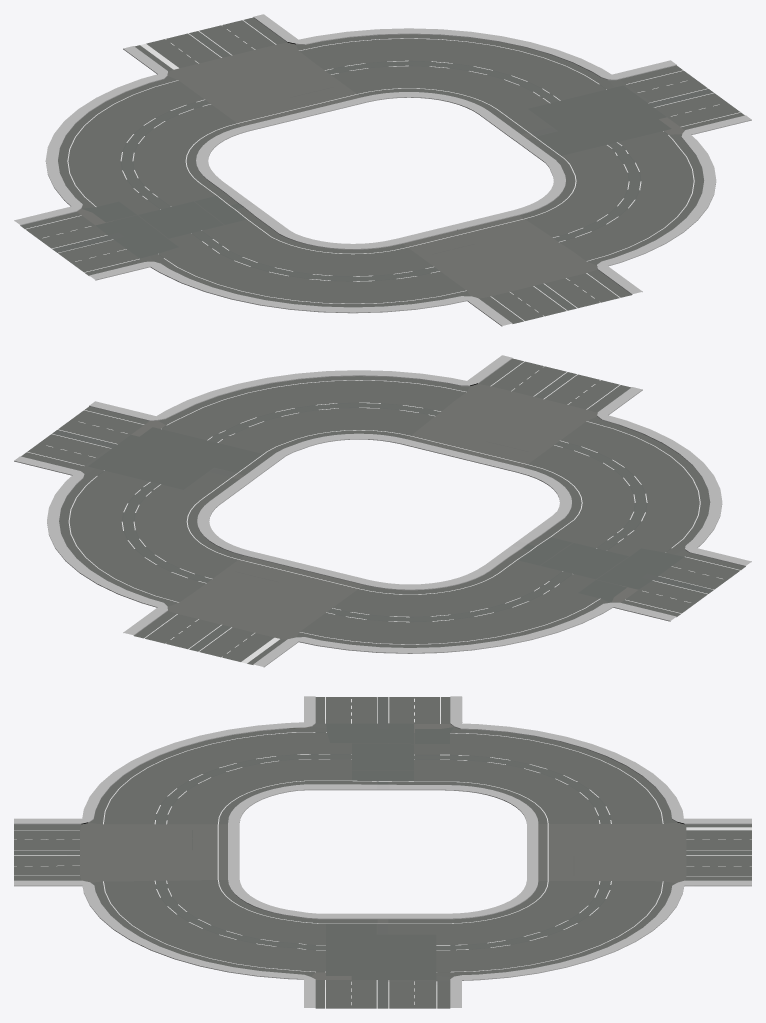
Rendered from Roundabout.fbx.
The picture shows the model from 3 angles, top to bottom: view 1: azimuth 30°, elevation 25°; view 2: azimuth 150°, elevation 25°; view 3: azimuth 270°, elevation 25°; orthographic projection. The views are drawn at different scales.
Parts seen in each view (by area): view 1: Plane; view 2: Plane; view 3: Plane.
Part boxes in pixels (bbox=[...]): Plane: bbox=[14, 14, 751, 326]; Plane: bbox=[14, 355, 751, 667]; Plane: bbox=[14, 696, 751, 1008].
Bounding box in the file's own units: 140 × 0.15 × 140.
